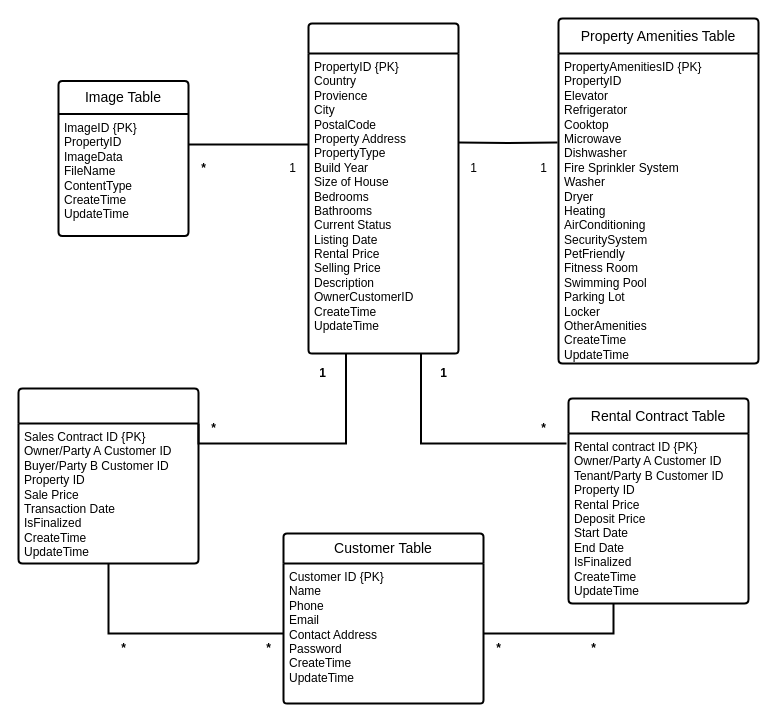
Some shapes in this 776 by 721 pixel diagram are drawn without their labels. Here are the shapes that lost their labels. From the top down, the box of each, then its label:
(307, 22, 459, 354): Property Table
(17, 387, 199, 564): Sales Contract Table
